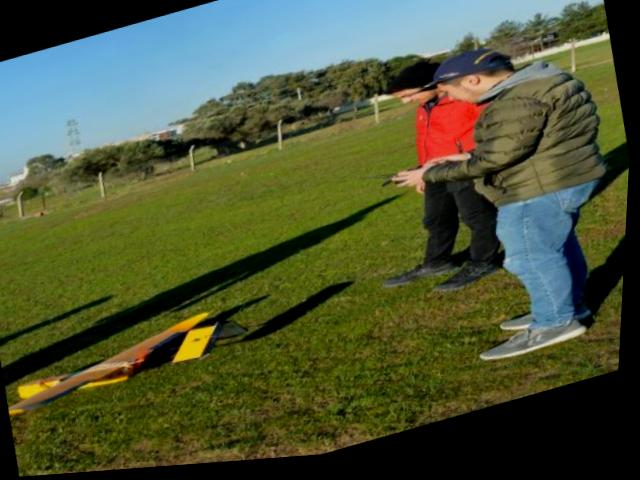iha: (1, 295, 258, 437)
